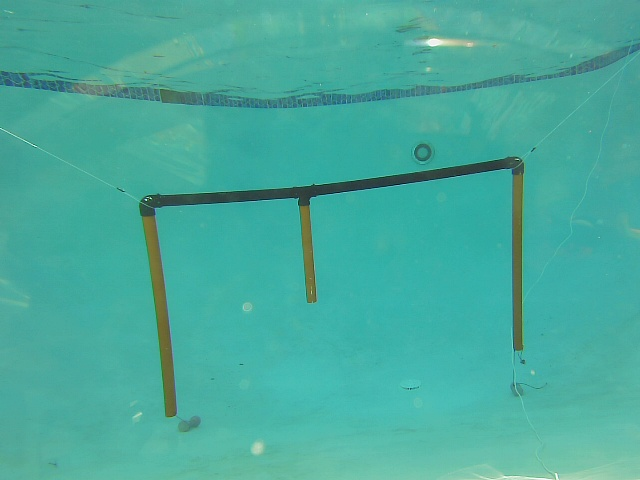Gate: (137, 206, 180, 418), (509, 167, 528, 355), (297, 198, 322, 309)
